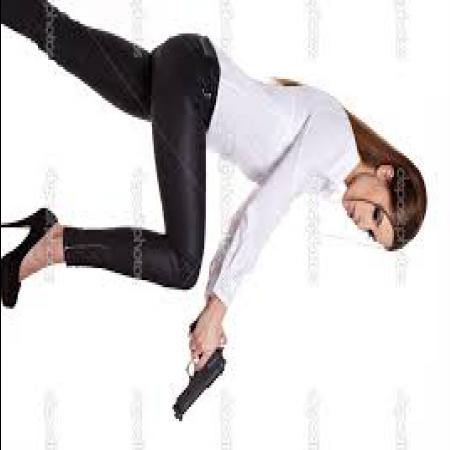Pistol: (172, 309, 232, 419)
